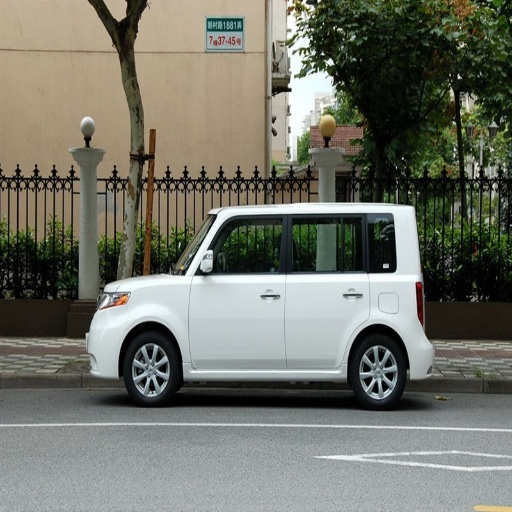back_left_door: (287, 215, 371, 368)
front_left_door: (190, 215, 289, 367)
